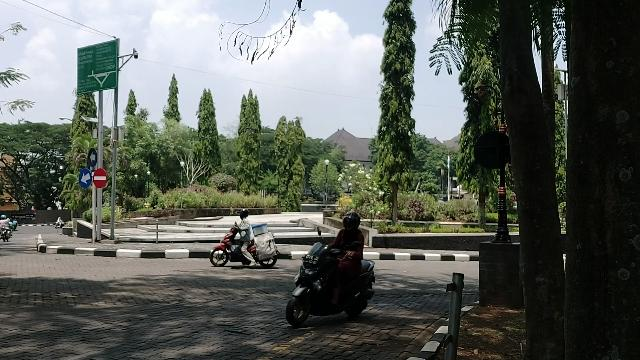helm: (342, 211, 363, 231), (236, 209, 250, 221)
motor: (285, 228, 377, 331), (210, 222, 282, 270)
